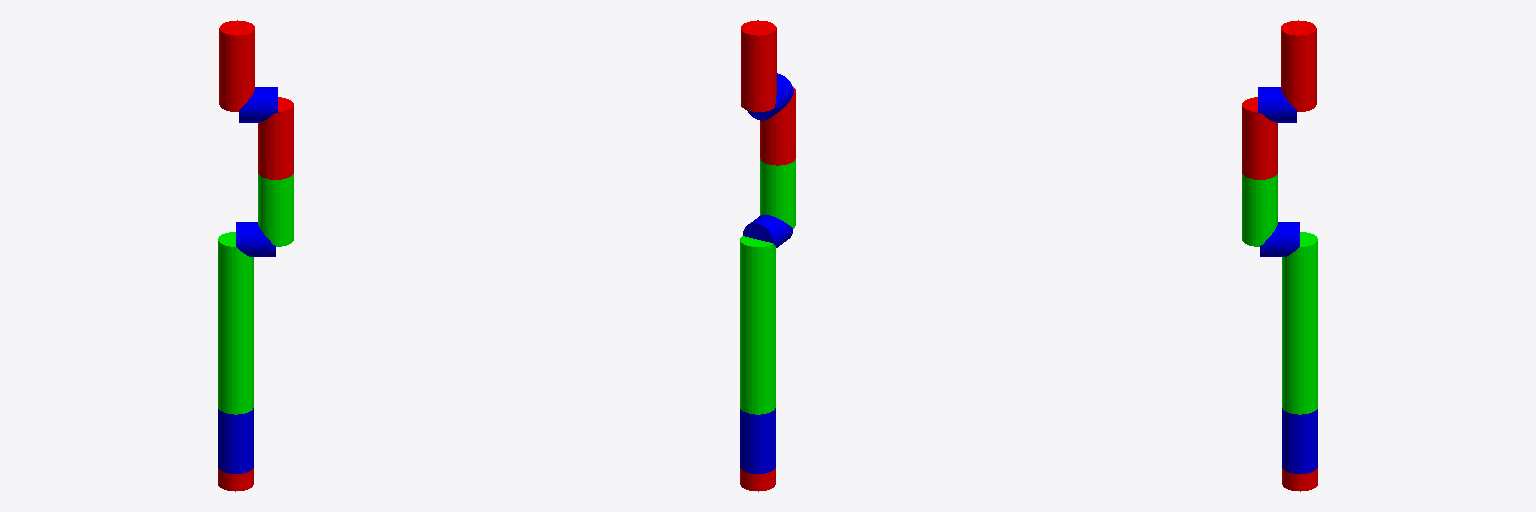
URDF robot description (robot_arm):
<robot name="robot_arm">

  <link name="base_link">
    <visual>
        <origin xyz="0.0 0.0 0.0273625" rpy="0.0 0.0 0.0"/>
      <geometry>
        <cylinder length="0.054725" radius="0.05080"/>
      </geometry>
       <material name="red">
            <color rgba="1.0 0.0 0.0 1.0"/>
        </material>
    </visual> 
  </link>

   <link name="base_rot">
    <visual>
      <geometry>
        <cylinder length="0.186275" radius="0.05080"/>
      </geometry>
      <material name="blue">
            <color rgba="0.0 0.0 1.0 1.0"/>
      </material>
    </visual> 
  </link>

  <joint name="base_joint" type="revolute">
      <parent link="base_link"/>
      <child link="base_rot"/>
      <origin xyz="0 0 0.1478625" rpy="0 0 0" />
      <axis xyz="0 0 -1"/>
    </joint>
    
    <!-- Define the "sholder_link" -->
    <link name="sholder_link">
        <visual>
            <origin xyz="0.0 0.0 0.2625" rpy="0.0 0.0 0.0"/>
            <geometry>
                <cylinder length="0.525" radius="0.05080"/>
            </geometry>
            <material name="green">
                <color rgba="0.0 1.0 0.0 1.0"/>
            </material>
        </visual>
    </link>

    <joint name="shoulder_joint" type="revolute">
      <parent link="base_rot"/>
      <child link="sholder_link"/>
      <origin xyz="0 0 0.0931375" rpy="0 0 0" />
      <axis xyz="0 1 0"/>
      <limit lower="-1.57" upper="1.57" />
    </joint>

    <joint name="sholder_to_elbow_joint" type="fixed">
        <origin xyz="0.0 0.0 0.525" rpy="-1.570796 0.0 0.0"/>
        <parent link="sholder_link"/>
        <child link="sholder_to_elbow_link"/>
    </joint>

    <link name="sholder_to_elbow_link">
        <visual>
            <origin xyz="0.0 0.0 -0.057" rpy="0.0 0.0 0.0"/>
            <geometry>
                <cylinder length="0.114" radius="0.05080"/>
            </geometry>
            <material name="blue">
                <color rgba="0.0 0.0 1.0 1.0"/>
            </material>
        </visual>
        <collision>
            <origin xyz="0.0 0.0 -0.057" rpy="0.0 0.0 0.0"/>
            <geometry>
                <cylinder length="0.114" radius="0.05080"/>
            </geometry>
        </collision>
    </link>

    <!-- Define the joint connecting the "sholder_link" to the "elbow_link" -->
    <joint name="elbow_joint" type="revolute">
        <origin xyz="0.0 0.0 -0.114" rpy="1.570796 0.0 0.0"/>
        <parent link="sholder_to_elbow_link"/>
        <child link="elbow_link"/>
        <axis xyz="0 1 0"/>
        <limit lower="-3.141692" upper="3.141692" effort="60.0" velocity="100.0"/>
    </joint>

    <!-- Define the "elbow_link" -->
    <link name="elbow_link">
        <visual>
            <origin xyz="0.0 0.0 0.105" rpy="0.0 0.0 0.0"/>
            <geometry>
                <cylinder length="0.210" radius="0.05080"/>
            </geometry>
            <material name="green">
                <color rgba="0.0 1.0 0.0 1.0"/>
            </material>
        </visual>
        <collision>
            <origin xyz="0.0 0.0 0.105" rpy="0.0 0.0 0.0"/>
            <geometry>
                <cylinder length="0.210" radius="0.05080"/>
            </geometry>
        </collision>
    </link>
    <!-- Define the joint connecting the "elbow_link" to the "elbow_revolute_link" -->
    <joint name="elbow_revolute_joint" type="revolute">
        <origin xyz="0.0 0.0 0.210" rpy="0.0 0.0 0.0"/>
        <parent link="elbow_link"/>
        <child link="elbow_revolute_link"/>
        <axis xyz="0 0 -1"/>
        <limit lower="-3.141692" upper="3.141692" effort="60.0" velocity="100.0"/>
    </joint>

    <!-- Define the "elbow_revolute_link" -->
    <link name="elbow_revolute_link">
        <visual>
            <origin xyz="0.0 0.0 0.106" rpy="0.0 0.0 0.0"/>
            <geometry>
                <cylinder length="0.212" radius="0.05080"/>
            </geometry>
            <material name="red">
                <color rgba="1.0 0.0 0.0 1.0"/>
            </material>
        </visual>
        <collision>
            <origin xyz="0.0 0.0 0.106" rpy="0.0 0.0 0.0"/>
            <geometry>
                <cylinder length="0.212" radius="0.05080"/>
            </geometry>
        </collision>
    </link>

    <joint name="elbow_revolute_to_wrist_joint" type="fixed">
        <origin xyz="0.0 0.0 0.212" rpy="-1.570796 0.0 0.0"/>
        <parent link="elbow_revolute_link"/>
        <child link="elbow_revolute_to_wrist_link"/>
    </joint>

    <link name="elbow_revolute_to_wrist_link">
        <visual>
            <origin xyz="0.0 0.0 0.05080" rpy="0.0 0.0 0.0"/>
            <geometry>
                <cylinder length="0.110" radius="0.05080"/>
            </geometry>
            <material name="blue">
                <color rgba="0.0 0.0 1.0 1.0"/>
            </material>
        </visual>
        <collision>
            <origin xyz="0.0 0.0 0.05080" rpy="0.0 0.0 0.0"/>
            <geometry>
                <cylinder length="0.110" radius="0.05080"/>
            </geometry>
        </collision>
    </link>

    <!-- Define the joint connecting the "elbow_revolute_link" to the "wrist_link" -->
    <joint name="wrist_joint" type="revolute">
        <origin xyz="0.0 0.0 0.110" rpy="1.570796 0.0 0.0"/>
        <parent link="elbow_revolute_to_wrist_link"/>
        <child link="wrist_link"/>
        <axis xyz="0 -1 0"/>
        <limit lower="-3.141692" upper="3.141692" effort="60.0" velocity="100.0"/>
    </joint>

    <!-- Define the "wrist_link" -->
    <link name="wrist_link">
        <visual>
            <origin xyz="0.0 0.0 0.095" rpy="0.0 0.0 0.0"/>
            <geometry>
                <cylinder length="0.190" radius="0.05080"/>
            </geometry>
            <material name="green">
                <color rgba="1.0 0.0 0.0 1.0"/>
            </material>
        </visual>
        <collision>
            <origin xyz="0.0 0.0 0.095" rpy="0.0 0.0 0.0"/>
            <geometry>
                <cylinder length="0.190" radius="0.05080"/>
            </geometry>
        </collision>
    </link>

    <!-- Define the joint connecting the "wrist_link" to the "wrist_revolute_link" -->
    <joint name="wrist_revolute_link" type="revolute">
        <origin xyz="0.0 0.0 0.190" rpy="0 0.0 0.0"/>
        <parent link="wrist_link"/>
        <child link="wrist_revolute_link"/>
        <axis xyz="0 0 1"/>
        <limit lower="-3.141692" upper="3.141692" effort="60.0" velocity="100.0"/>
    </joint>

    <!-- Define the "wrist_revolute_link" -->
    <link name="wrist_revolute_link">
        <visual>
            <origin xyz="0.0 0.0 0.025" rpy="0.0 0.0 0.0"/>
            <geometry>
                <cylinder length="0.05" radius="0.05080"/>
            </geometry>
            <material name="red">
                <color rgba="1.0 0.0 0.0 1.0"/>
            </material>
        </visual>
        <collision>
            <origin xyz="0.0 0.0 0.025" rpy="0.0 0.0 0.0"/>
            <geometry>
                <cylinder length="0.05" radius="0.05080"/>
            </geometry>
        </collision>
    </link>
</robot>

--- Facts derived from the render (not from the file) ---
The picture shows the robot from 3 angles, left to right: view 1: azimuth 90°, elevation 25°; view 2: azimuth 150°, elevation 25°; view 3: azimuth 270°, elevation 25°; orthographic projection.
Model robot_arm with 9 links and 8 joints (6 revolute, 2 fixed), rooted at base_link, posed all joints at 0.
Links seen in each view (by area): view 1: sholder_link, elbow_revolute_link, elbow_link, base_rot, wrist_link, elbow_revolute_to_wrist_link, sholder_to_elbow_link, wrist_revolute_link, base_link; view 2: sholder_link, wrist_link, base_rot, elbow_link, elbow_revolute_link, sholder_to_elbow_link, wrist_revolute_link, elbow_revolute_to_wrist_link, base_link; view 3: sholder_link, elbow_revolute_link, elbow_link, base_rot, wrist_link, elbow_revolute_to_wrist_link, sholder_to_elbow_link, wrist_revolute_link, base_link.
Link boxes in pixels (x1,y1,x2,y2): sholder_link: (218,232,253,414); elbow_revolute_link: (258,97,293,179); elbow_link: (258,174,293,246); base_rot: (218,408,253,473); wrist_link: (219,44,254,111); elbow_revolute_to_wrist_link: (239,87,277,122); sholder_to_elbow_link: (236,222,275,256); wrist_revolute_link: (219,20,254,51); base_link: (218,468,253,491); sholder_link: (740,236,775,414); wrist_link: (741,44,776,111); base_rot: (740,408,775,473); elbow_link: (760,159,795,228); elbow_revolute_link: (760,87,795,165); sholder_to_elbow_link: (743,215,792,247); wrist_revolute_link: (741,20,776,51); elbow_revolute_to_wrist_link: (747,73,793,120); base_link: (740,468,775,491); sholder_link: (1282,232,1317,414); elbow_revolute_link: (1242,97,1277,179); elbow_link: (1242,174,1277,246); base_rot: (1282,408,1317,473); wrist_link: (1281,44,1316,111); elbow_revolute_to_wrist_link: (1258,87,1296,122); sholder_to_elbow_link: (1260,222,1299,256); wrist_revolute_link: (1281,20,1316,51); base_link: (1282,468,1317,491).
Size in the robot's own frame: 0.1016 by 0.2156 by 1.43 metres.
Geometry: primitives only (box / cylinder / sphere), no mesh files.